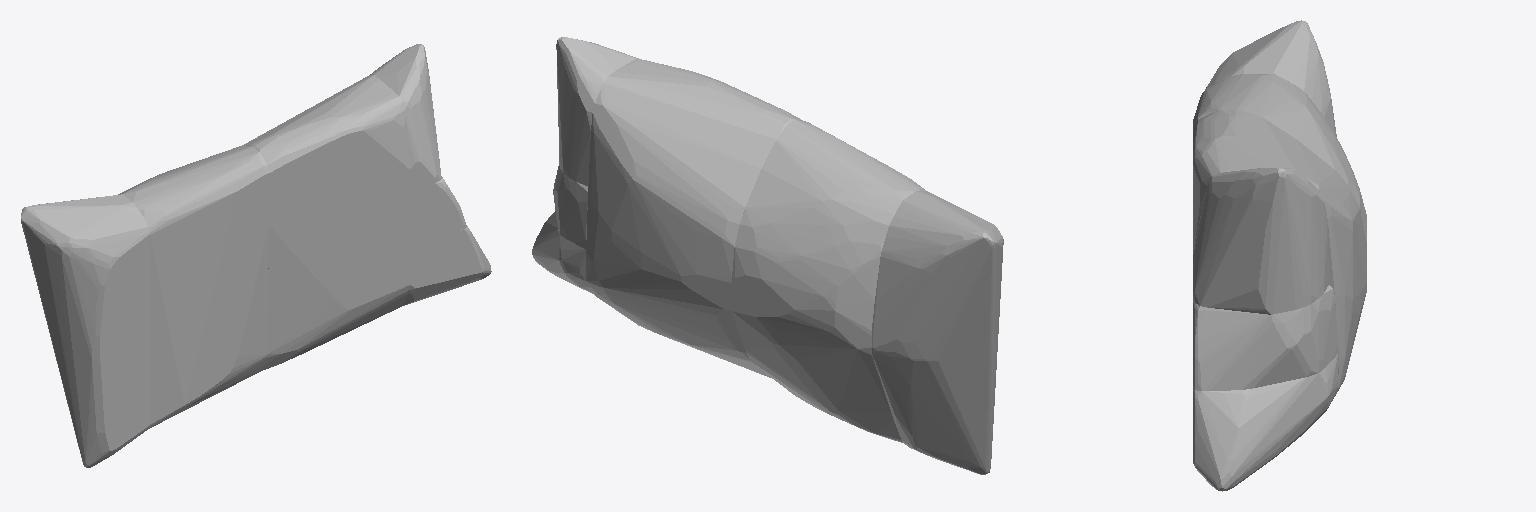
URDF robot description (root):
<robot name="root">
  <link name="link_coacd_convex_piece_0">
    <inertial>
      <origin xyz="0 0 0" rpy="0 0 0"/>
      <inertia ixx="1.00E-02" ixy="1.32E-03" ixz="-3.24E-03" iyy="2.00E-02" iyz="3.00E-04" izz="1.39E-02"/>
    </inertial>
    <visual>
      <origin xyz="0 0 0" rpy="0 0 0"/>
      <geometry>
        <mesh filename="coacd_convex_piece_0.obj" scale="1.0000E+00 1.0000E+00 1.0000E+00"/>
      </geometry>
      <material name="">
        <color rgba="7.50E-01 7.50E-01 7.50E-01 1"/>
      </material>
    </visual>
    <collision>
      <origin xyz="0 0 0" rpy="0 0 0"/>
      <geometry>
        <mesh filename="coacd_convex_piece_0.obj" scale="1.0000E+00 1.0000E+00 1.0000E+00"/>
      </geometry>
    </collision>
  </link>
  <link name="link_coacd_convex_piece_1">
    <inertial>
      <origin xyz="0 0 0" rpy="0 0 0"/>
      <inertia ixx="7.67E-03" ixy="-1.16E-03" ixz="-1.62E-03" iyy="1.75E-02" iyz="-4.03E-04" izz="1.29E-02"/>
    </inertial>
    <visual>
      <origin xyz="0 0 0" rpy="0 0 0"/>
      <geometry>
        <mesh filename="coacd_convex_piece_1.obj" scale="1.0000E+00 1.0000E+00 1.0000E+00"/>
      </geometry>
      <material name="">
        <color rgba="7.50E-01 7.50E-01 7.50E-01 1"/>
      </material>
    </visual>
    <collision>
      <origin xyz="0 0 0" rpy="0 0 0"/>
      <geometry>
        <mesh filename="coacd_convex_piece_1.obj" scale="1.0000E+00 1.0000E+00 1.0000E+00"/>
      </geometry>
    </collision>
  </link>
  <joint name="link_coacd_convex_piece_1_joint" type="fixed">
    <origin xyz="0 0 0" rpy="0 0 0"/>
    <parent link="link_coacd_convex_piece_0"/>
    <child link="link_coacd_convex_piece_1"/>
  </joint>
  <link name="link_coacd_convex_piece_2">
    <inertial>
      <origin xyz="0 0 0" rpy="0 0 0"/>
      <inertia ixx="3.67E-03" ixy="-1.94E-03" ixz="-2.07E-03" iyy="2.72E-02" iyz="-5.68E-04" izz="2.46E-02"/>
    </inertial>
    <visual>
      <origin xyz="0 0 0" rpy="0 0 0"/>
      <geometry>
        <mesh filename="coacd_convex_piece_2.obj" scale="1.0000E+00 1.0000E+00 1.0000E+00"/>
      </geometry>
      <material name="">
        <color rgba="7.50E-01 7.50E-01 7.50E-01 1"/>
      </material>
    </visual>
    <collision>
      <origin xyz="0 0 0" rpy="0 0 0"/>
      <geometry>
        <mesh filename="coacd_convex_piece_2.obj" scale="1.0000E+00 1.0000E+00 1.0000E+00"/>
      </geometry>
    </collision>
  </link>
  <joint name="link_coacd_convex_piece_2_joint" type="fixed">
    <origin xyz="0 0 0" rpy="0 0 0"/>
    <parent link="link_coacd_convex_piece_1"/>
    <child link="link_coacd_convex_piece_2"/>
  </joint>
  <link name="link_coacd_convex_piece_3">
    <inertial>
      <origin xyz="0 0 0" rpy="0 0 0"/>
      <inertia ixx="2.17E-03" ixy="4.27E-04" ixz="-3.19E-03" iyy="7.38E-03" iyz="2.25E-04" izz="5.42E-03"/>
    </inertial>
    <visual>
      <origin xyz="0 0 0" rpy="0 0 0"/>
      <geometry>
        <mesh filename="coacd_convex_piece_3.obj" scale="1.0000E+00 1.0000E+00 1.0000E+00"/>
      </geometry>
      <material name="">
        <color rgba="7.50E-01 7.50E-01 7.50E-01 1"/>
      </material>
    </visual>
    <collision>
      <origin xyz="0 0 0" rpy="0 0 0"/>
      <geometry>
        <mesh filename="coacd_convex_piece_3.obj" scale="1.0000E+00 1.0000E+00 1.0000E+00"/>
      </geometry>
    </collision>
  </link>
  <joint name="link_coacd_convex_piece_3_joint" type="fixed">
    <origin xyz="0 0 0" rpy="0 0 0"/>
    <parent link="link_coacd_convex_piece_2"/>
    <child link="link_coacd_convex_piece_3"/>
  </joint>
  <link name="link_coacd_convex_piece_4">
    <inertial>
      <origin xyz="0 0 0" rpy="0 0 0"/>
      <inertia ixx="2.61E-04" ixy="4.72E-04" ixz="-6.20E-04" iyy="4.48E-03" iyz="5.29E-05" izz="4.50E-03"/>
    </inertial>
    <visual>
      <origin xyz="0 0 0" rpy="0 0 0"/>
      <geometry>
        <mesh filename="coacd_convex_piece_4.obj" scale="1.0000E+00 1.0000E+00 1.0000E+00"/>
      </geometry>
      <material name="">
        <color rgba="7.50E-01 7.50E-01 7.50E-01 1"/>
      </material>
    </visual>
    <collision>
      <origin xyz="0 0 0" rpy="0 0 0"/>
      <geometry>
        <mesh filename="coacd_convex_piece_4.obj" scale="1.0000E+00 1.0000E+00 1.0000E+00"/>
      </geometry>
    </collision>
  </link>
  <joint name="link_coacd_convex_piece_4_joint" type="fixed">
    <origin xyz="0 0 0" rpy="0 0 0"/>
    <parent link="link_coacd_convex_piece_3"/>
    <child link="link_coacd_convex_piece_4"/>
  </joint>
  <link name="link_coacd_convex_piece_5">
    <inertial>
      <origin xyz="0 0 0" rpy="0 0 0"/>
      <inertia ixx="5.99E-04" ixy="9.85E-04" ixz="1.44E-03" iyy="7.64E-03" iyz="-2.22E-04" izz="7.51E-03"/>
    </inertial>
    <visual>
      <origin xyz="0 0 0" rpy="0 0 0"/>
      <geometry>
        <mesh filename="coacd_convex_piece_5.obj" scale="1.0000E+00 1.0000E+00 1.0000E+00"/>
      </geometry>
      <material name="">
        <color rgba="7.50E-01 7.50E-01 7.50E-01 1"/>
      </material>
    </visual>
    <collision>
      <origin xyz="0 0 0" rpy="0 0 0"/>
      <geometry>
        <mesh filename="coacd_convex_piece_5.obj" scale="1.0000E+00 1.0000E+00 1.0000E+00"/>
      </geometry>
    </collision>
  </link>
  <joint name="link_coacd_convex_piece_5_joint" type="fixed">
    <origin xyz="0 0 0" rpy="0 0 0"/>
    <parent link="link_coacd_convex_piece_4"/>
    <child link="link_coacd_convex_piece_5"/>
  </joint>
</robot>

--- Facts derived from the render (not from the file) ---
The picture shows the robot from 3 angles, left to right: view 1: azimuth 30°, elevation 25°; view 2: azimuth 150°, elevation 25°; view 3: azimuth 270°, elevation 25°; orthographic projection.
Model root with 6 links and 5 joints (5 fixed), rooted at link_coacd_convex_piece_0, posed every joint at zero.
Links seen in each view (by area): view 1: link_coacd_convex_piece_0, link_coacd_convex_piece_1, link_coacd_convex_piece_2, link_coacd_convex_piece_3, link_coacd_convex_piece_5, link_coacd_convex_piece_4; view 2: link_coacd_convex_piece_0, link_coacd_convex_piece_1, link_coacd_convex_piece_2, link_coacd_convex_piece_3, link_coacd_convex_piece_5, link_coacd_convex_piece_4; view 3: link_coacd_convex_piece_3, link_coacd_convex_piece_0, link_coacd_convex_piece_4, link_coacd_convex_piece_5, link_coacd_convex_piece_1, link_coacd_convex_piece_2.
Link boxes in pixels (x1=…): link_coacd_convex_piece_0: x1=244, y1=75, x2=409, y2=370; link_coacd_convex_piece_1: x1=118, y1=145, x2=268, y2=428; link_coacd_convex_piece_2: x1=21, y1=194, x2=149, y2=467; link_coacd_convex_piece_3: x1=370, y1=44, x2=441, y2=188; link_coacd_convex_piece_5: x1=403, y1=226, x2=491, y2=305; link_coacd_convex_piece_4: x1=410, y1=177, x2=466, y2=241; link_coacd_convex_piece_0: x1=586, y1=58, x2=802, y2=378; link_coacd_convex_piece_1: x1=732, y1=119, x2=925, y2=442; link_coacd_convex_piece_2: x1=872, y1=190, x2=1003, y2=474; link_coacd_convex_piece_3: x1=556, y1=37, x2=638, y2=185; link_coacd_convex_piece_5: x1=532, y1=211, x2=592, y2=293; link_coacd_convex_piece_4: x1=553, y1=166, x2=587, y2=248; link_coacd_convex_piece_3: x1=1193, y1=168, x2=1328, y2=314; link_coacd_convex_piece_0: x1=1193, y1=110, x2=1366, y2=395; link_coacd_convex_piece_4: x1=1193, y1=285, x2=1337, y2=390; link_coacd_convex_piece_5: x1=1193, y1=354, x2=1338, y2=491; link_coacd_convex_piece_1: x1=1193, y1=74, x2=1366, y2=241; link_coacd_convex_piece_2: x1=1205, y1=20, x2=1336, y2=136.
Size in the robot's own frame: 1.79 by 0.467 by 1.24 metres.
Meshes: 6 distinct files referenced, 6 mesh visuals loaded (6 OBJ).
